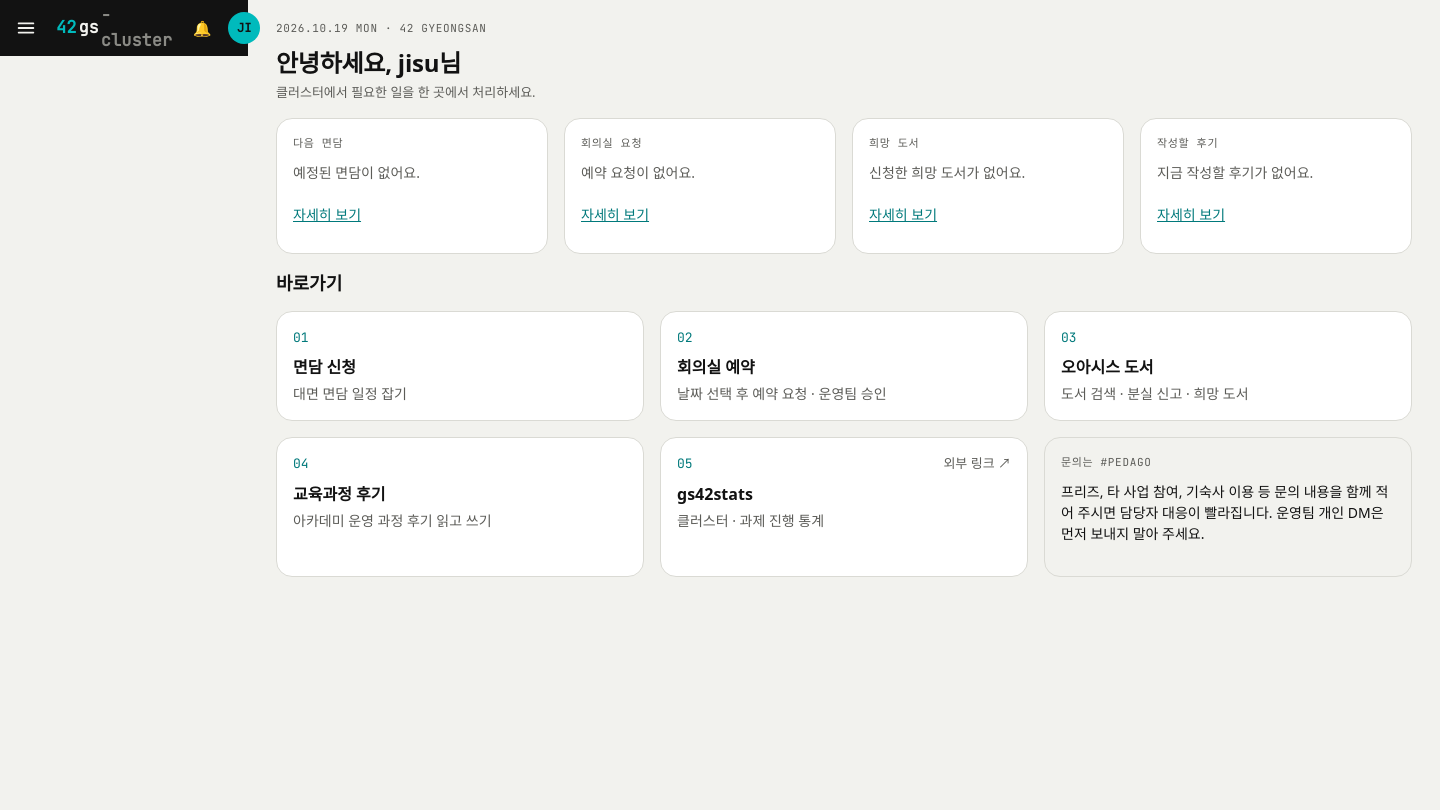
Scenario: 레이아웃: 모바일(≤900px) › Esc로 드로어를 닫고 메뉴 버튼으로 포커스가 돌아온다
Click the button named "메뉴 열기": [26, 28] box left=4, top=6, right=48, bottom=50
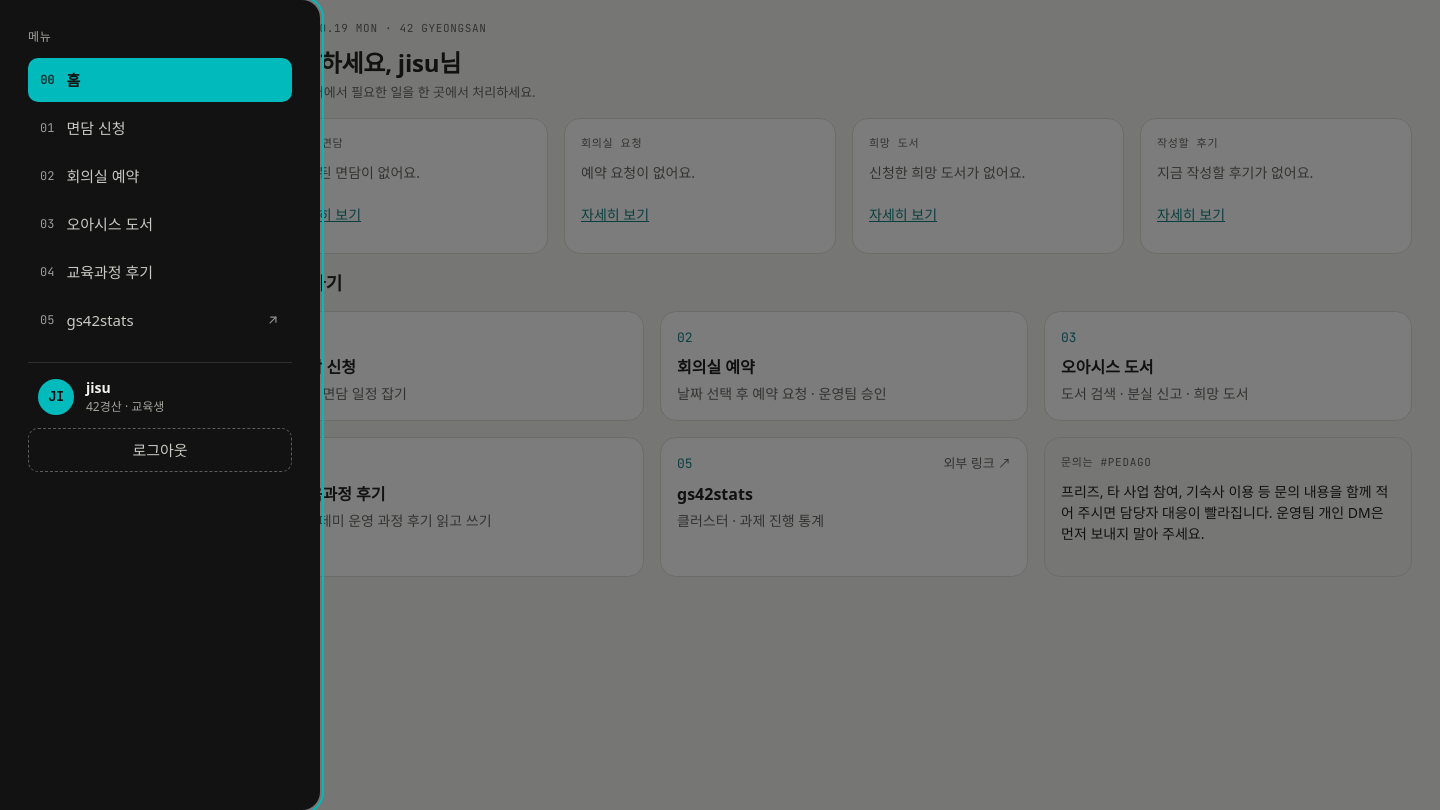
Check: the dialog "메뉴" is shown, box left=0, top=0, right=320, bottom=809
Press Escape
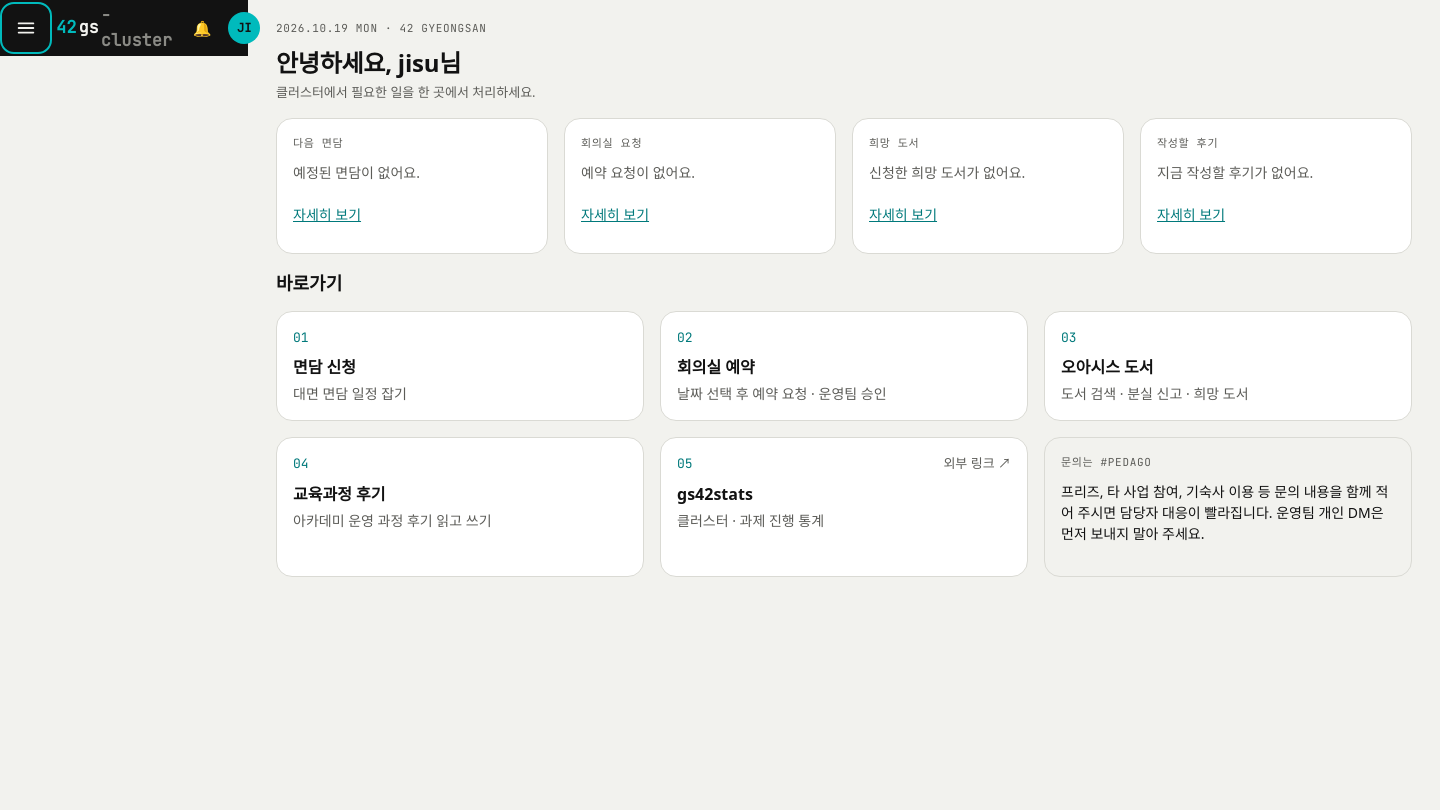
Check: the heading "메뉴" is gone
